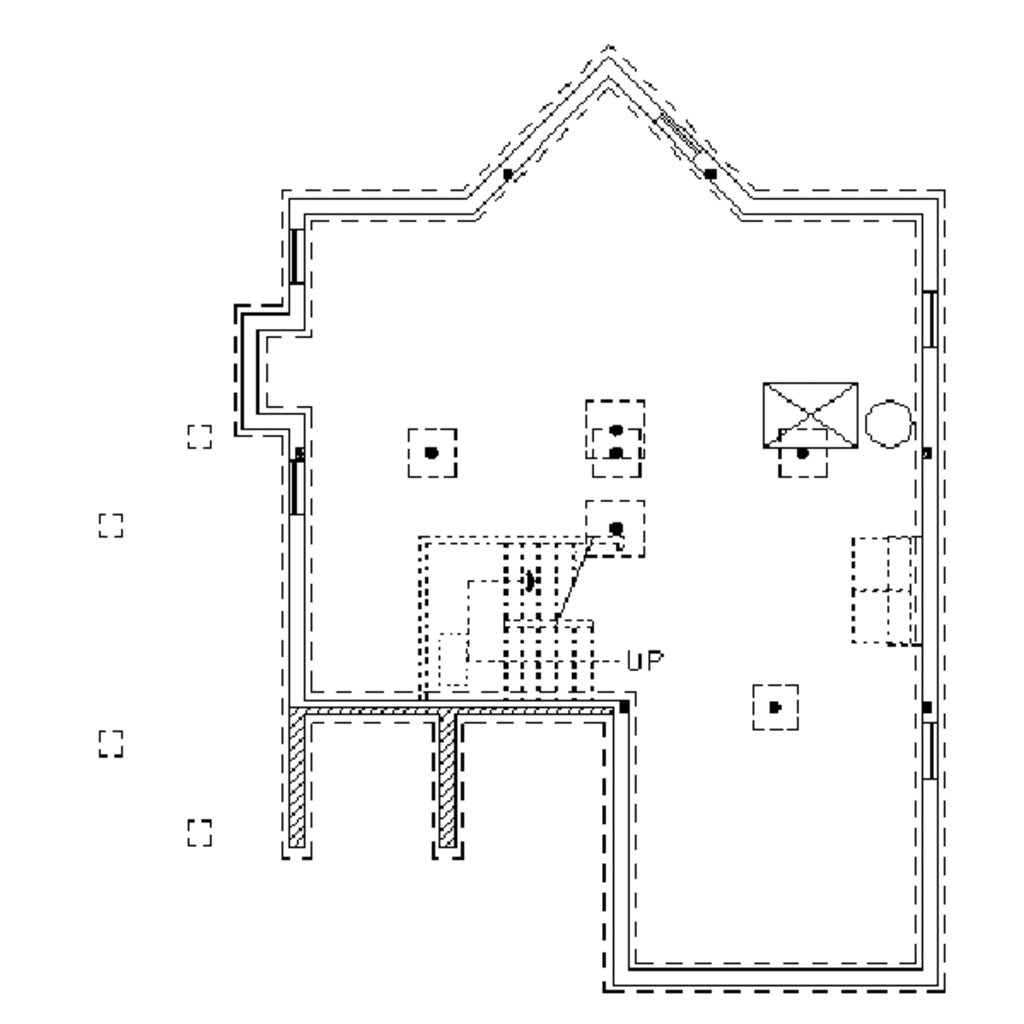stairs: (414, 531, 608, 699)
